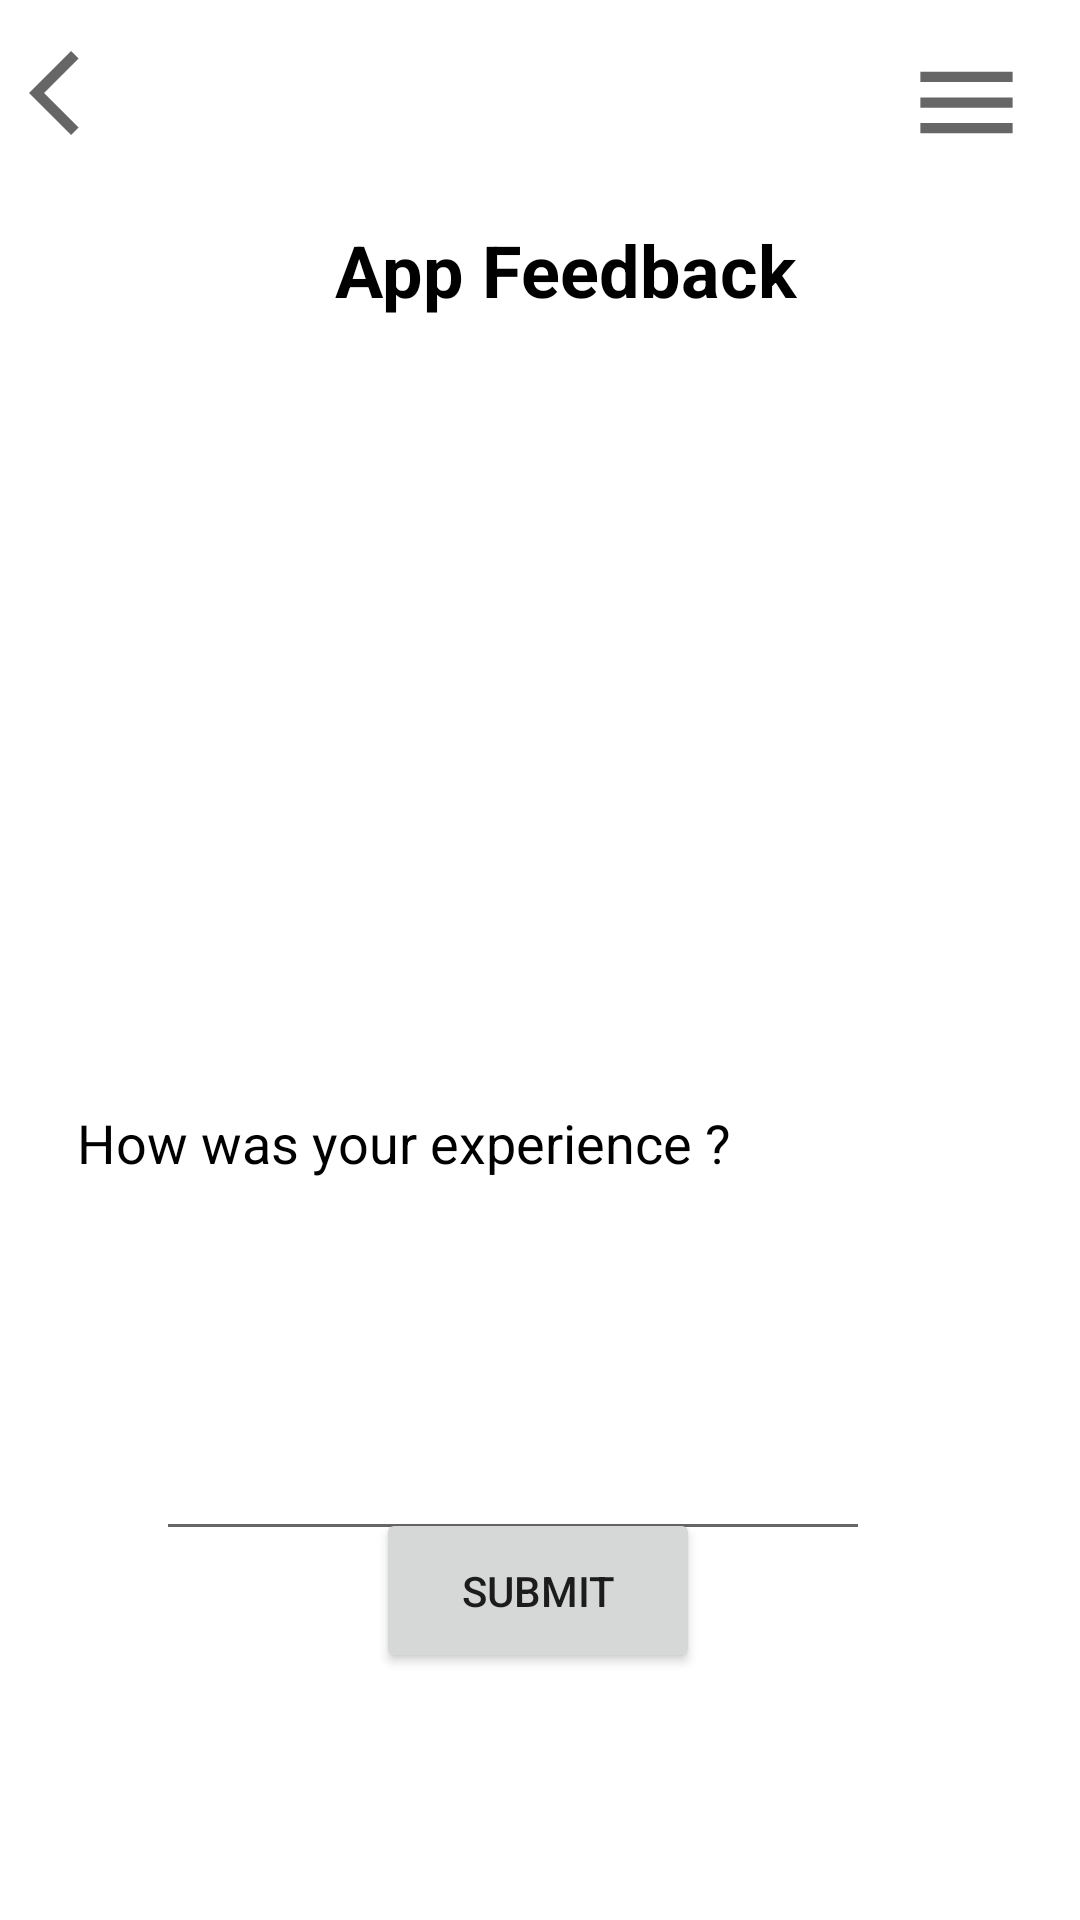

Where to tap for icons on this 1080 × 1920 app screen, as (x=x, y=y):
arrowback: (x=54, y=93)
menu: (x=966, y=102)
